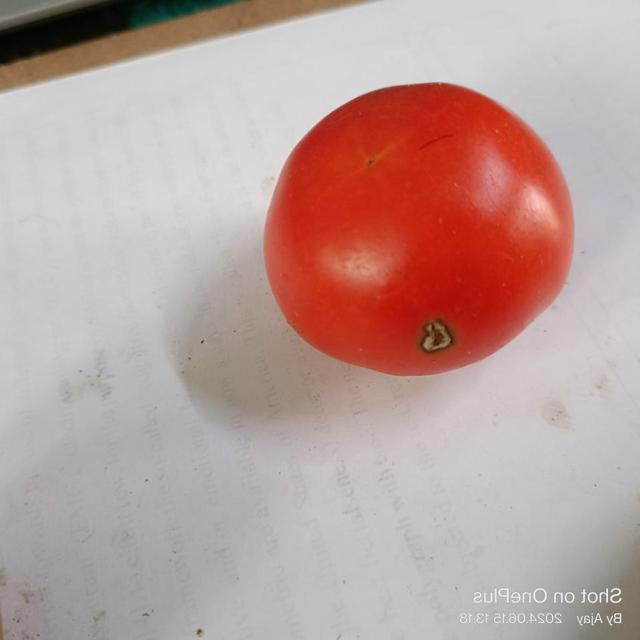Bacterial Spot Fruit: (278, 212, 302, 235)
